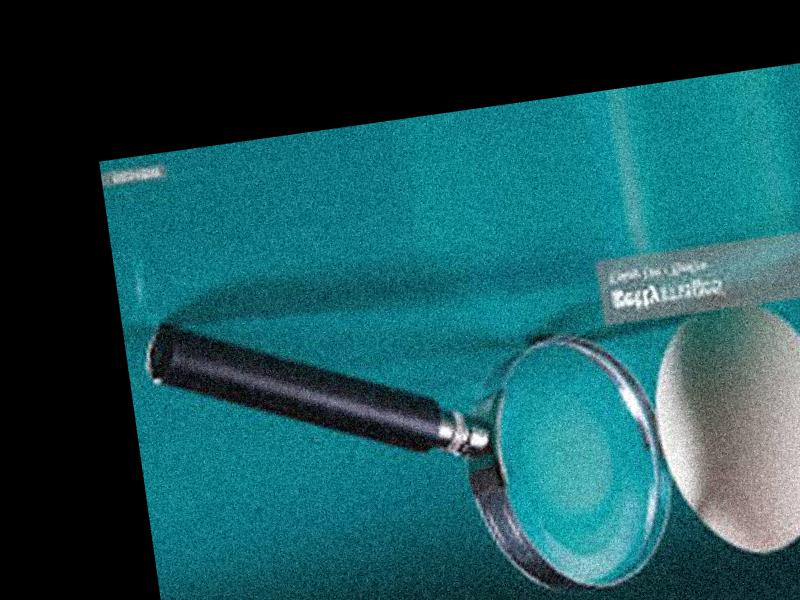Eggs: (641, 291, 800, 566)
